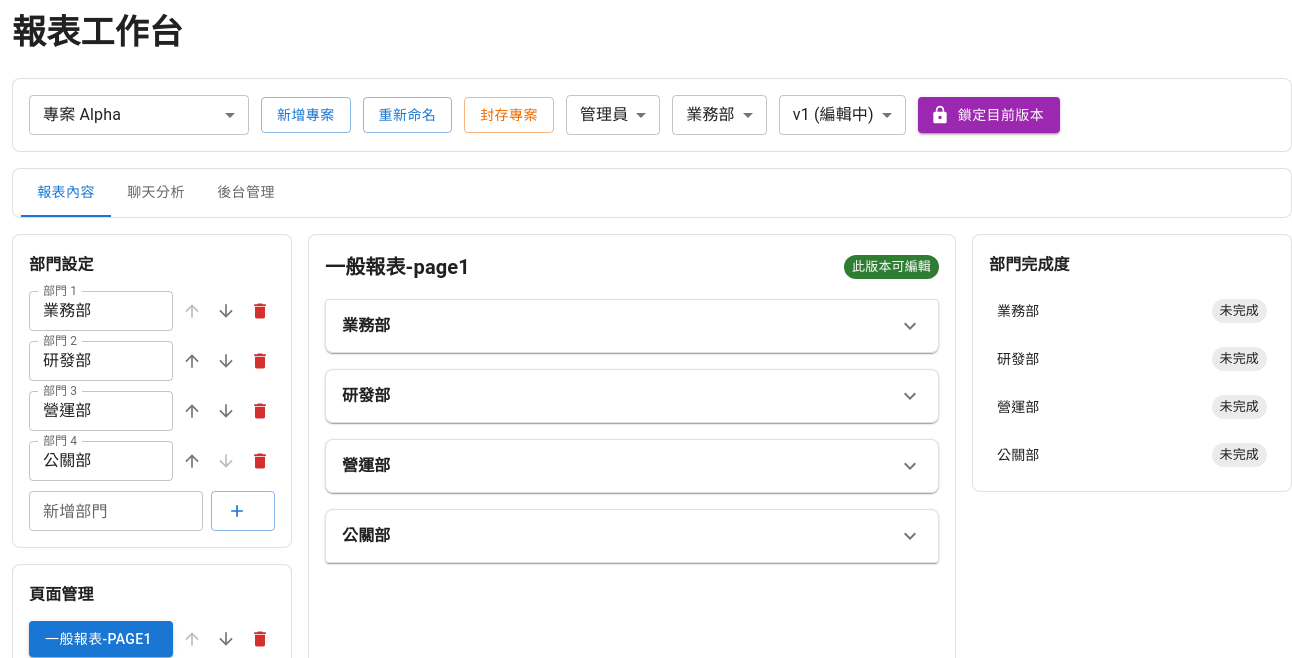
Scenario: ReportWorkspacePage backend management tab › keeps normal sign-in open until admin explicitly closes it
Click the tab "後台管理" at (246, 193), box top-left (201, 169), bottom-right (291, 217)
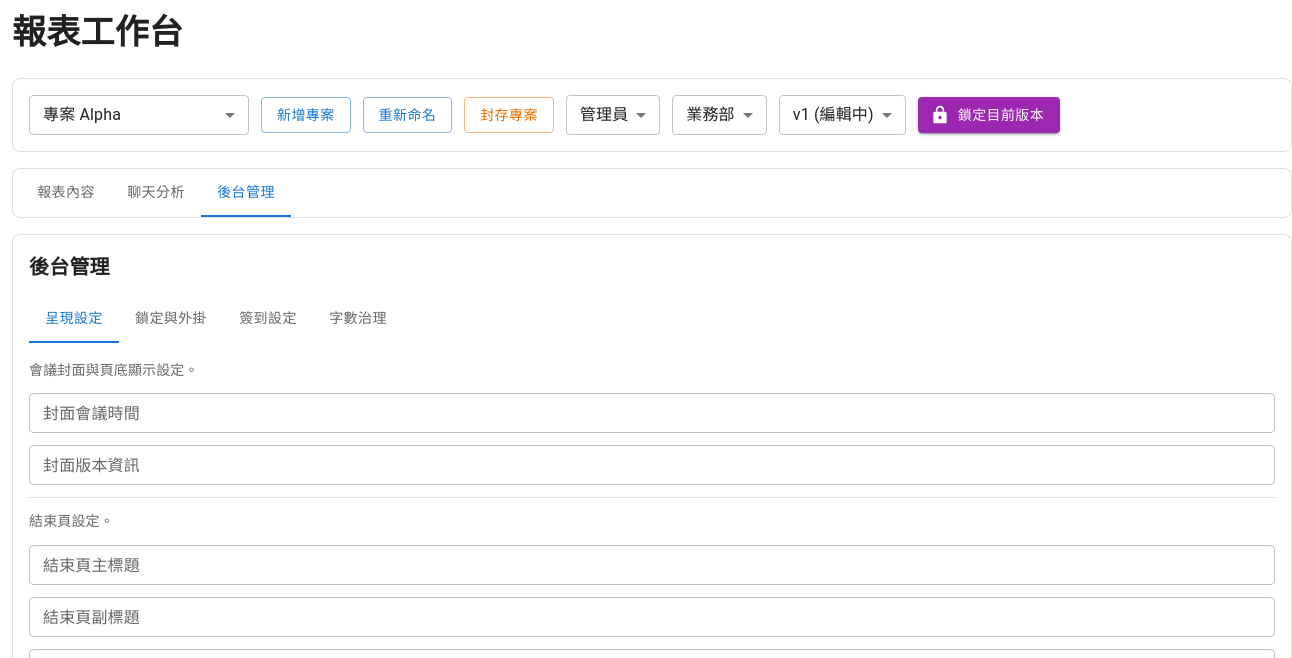
Click the tab "簽到設定" at (268, 319), box top-left (223, 295), bottom-right (313, 343)
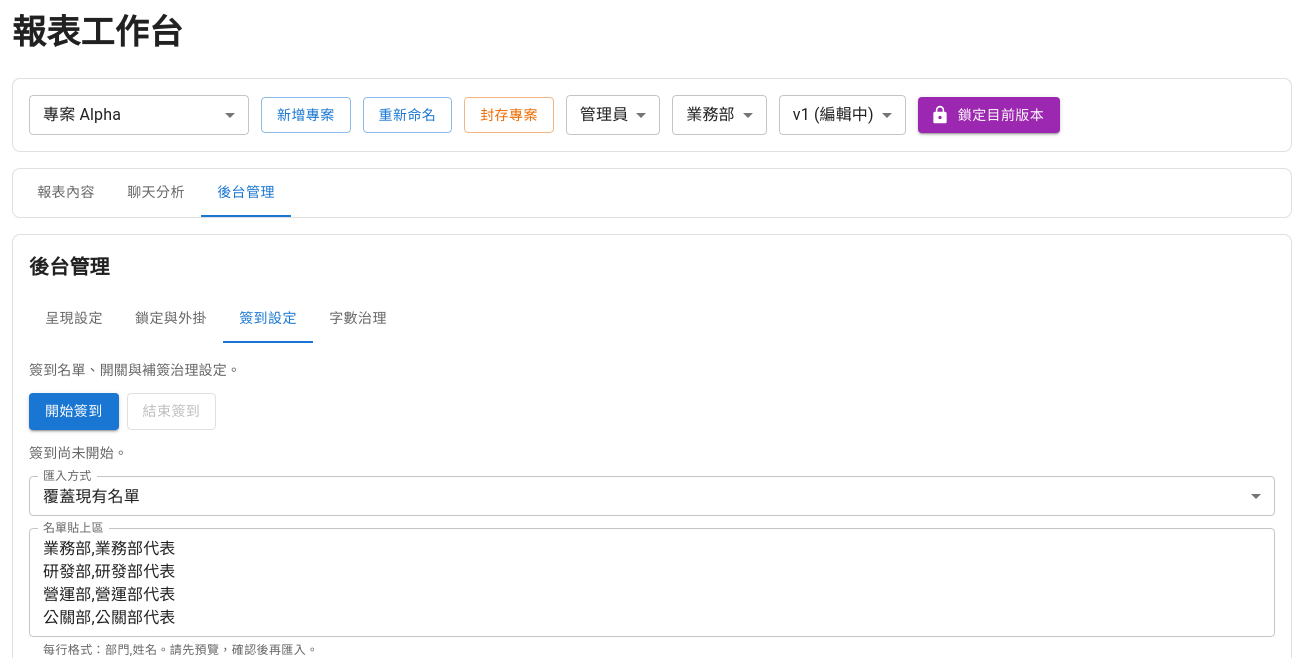
Click the button "開始簽到" at (74, 412), box top-left (29, 393), bottom-right (119, 430)
Wait 10000000 ms
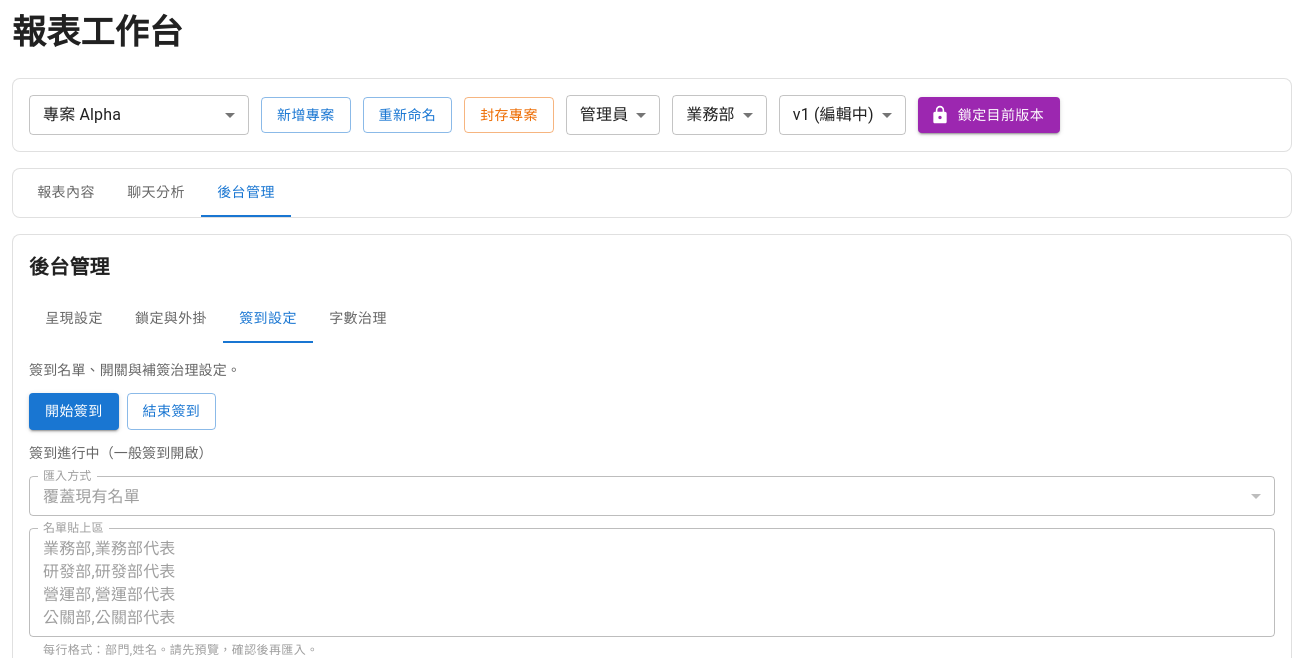
Check: the text "簽到進行中（一般簽到開啟）" is shown, box top-left (29, 445), bottom-right (213, 461)
